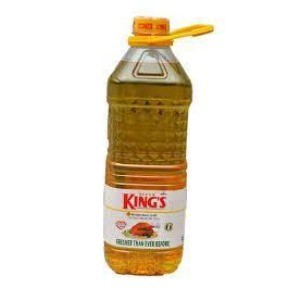vegetable oil_brain food: (102, 80, 185, 231)
